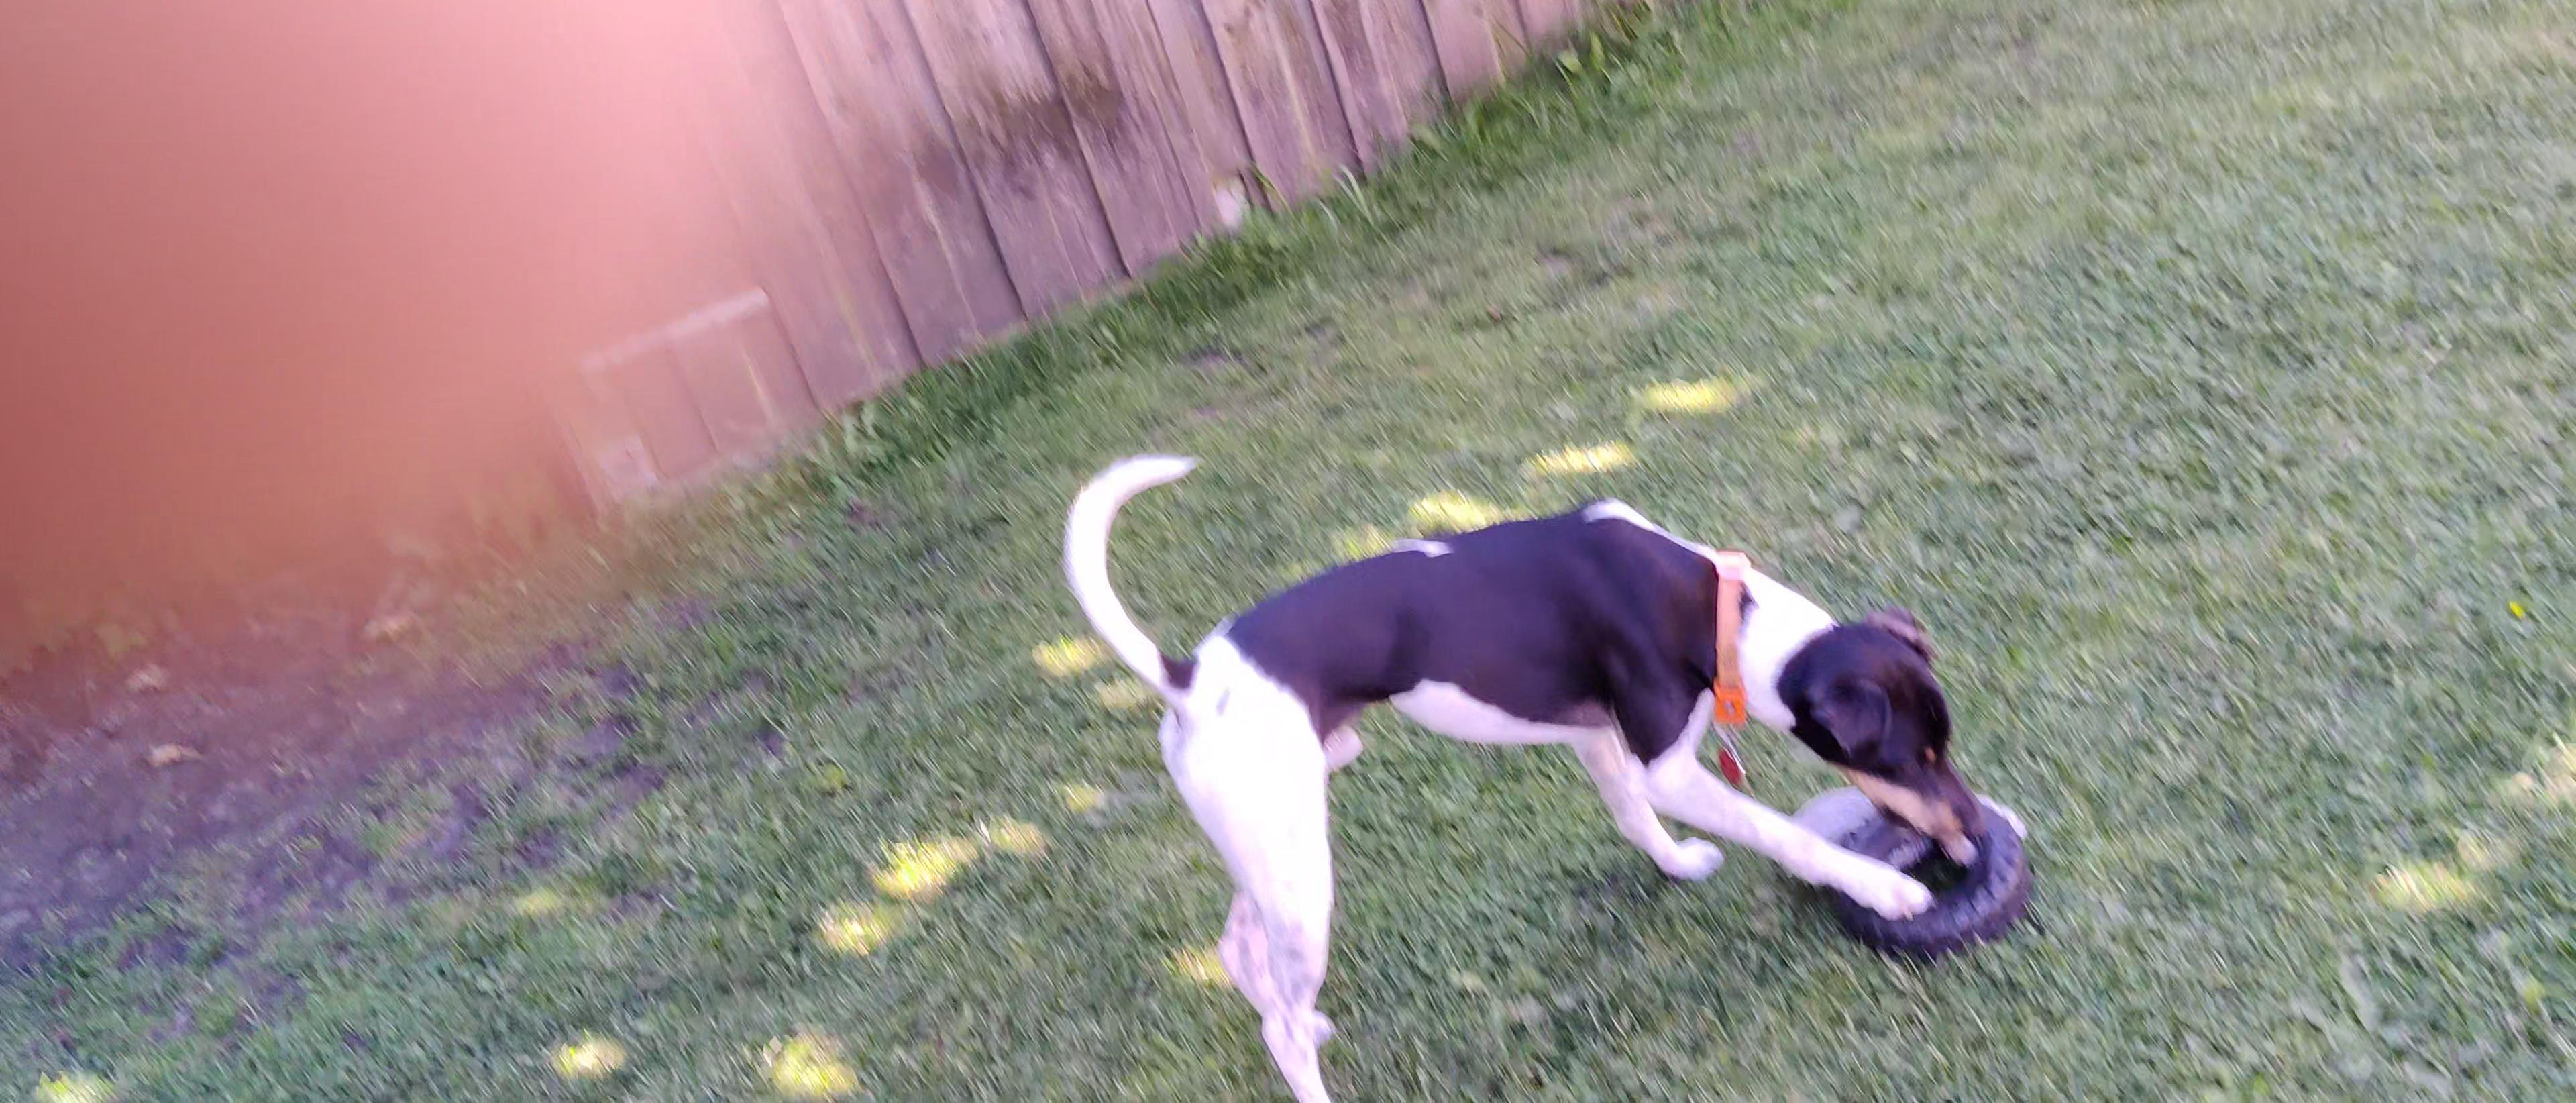Dog: (1043, 419, 1998, 1103)
